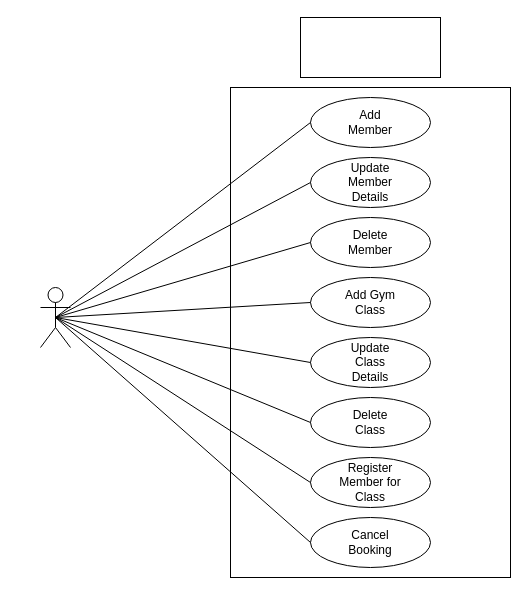
This 528x595 diagram has some shape labels left out. Here are the shapes that lost their labels. From the top down, the centre of each, then its label:
(370,47): Use Case Diagram
(55,317): Gym Manager
